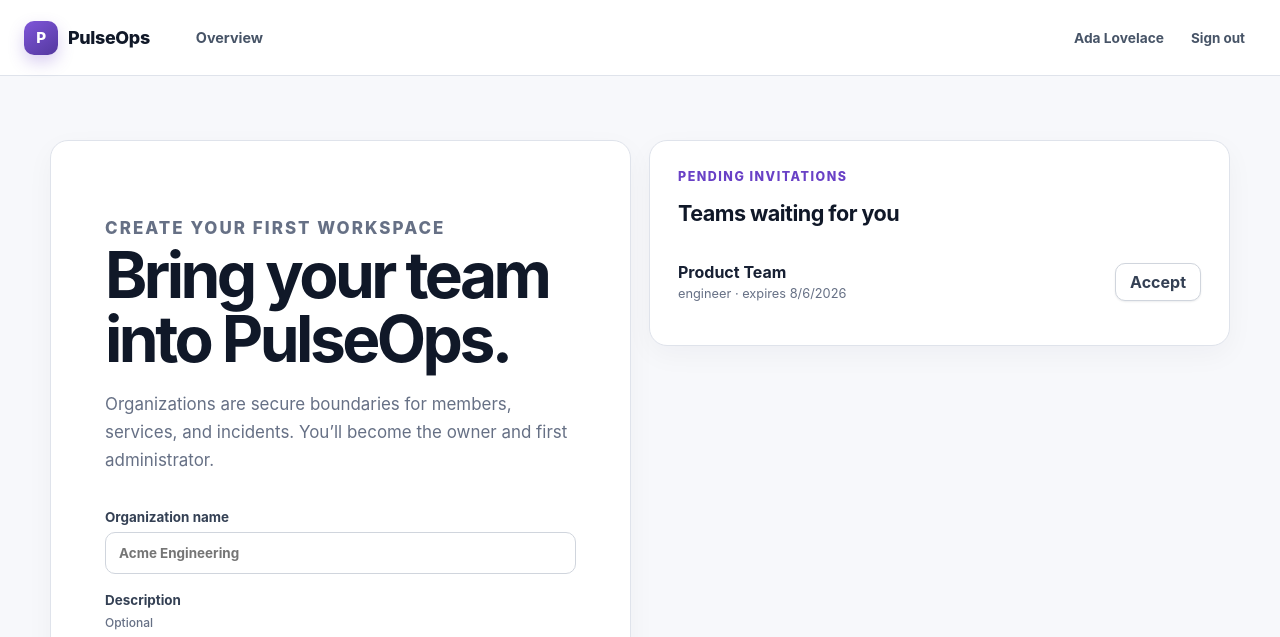
Test case: PulseOps authentication routes › accepts a pending invitation and enters the new organization
Expected: the text "Product Team" is shown, [678,262,786,282]
Click the button "Accept".
click(1158, 282)  # box [1115,262,1201,300]
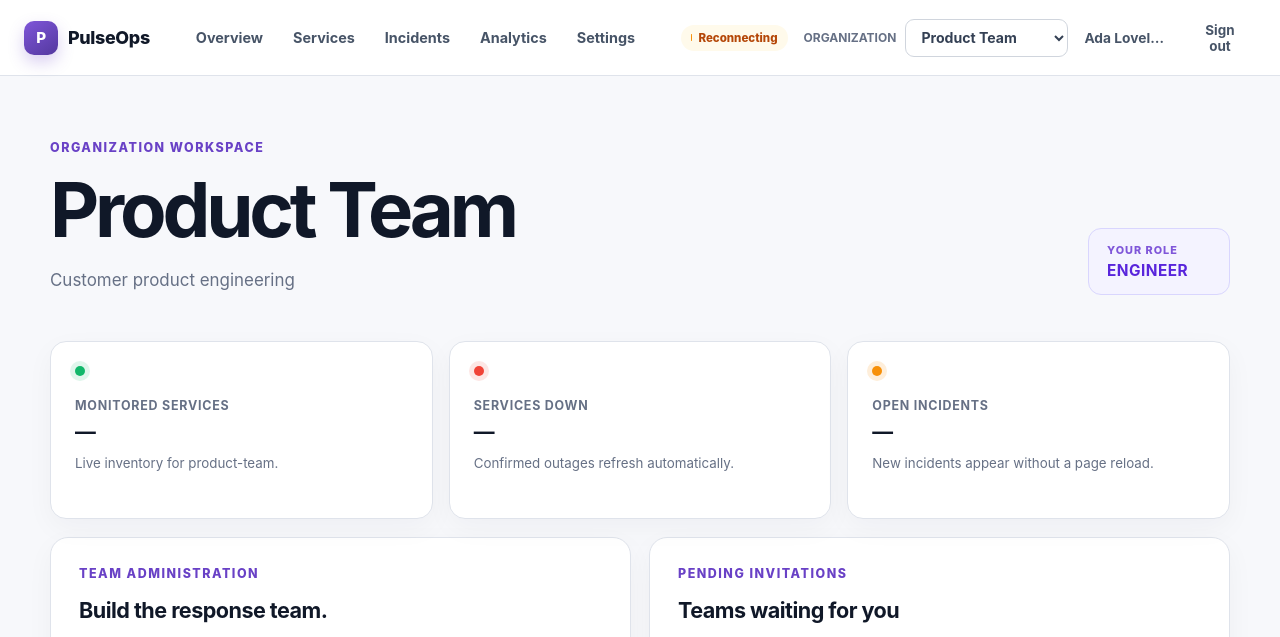
Expected: the heading "Product Team" is shown, [50,171,515,247]
